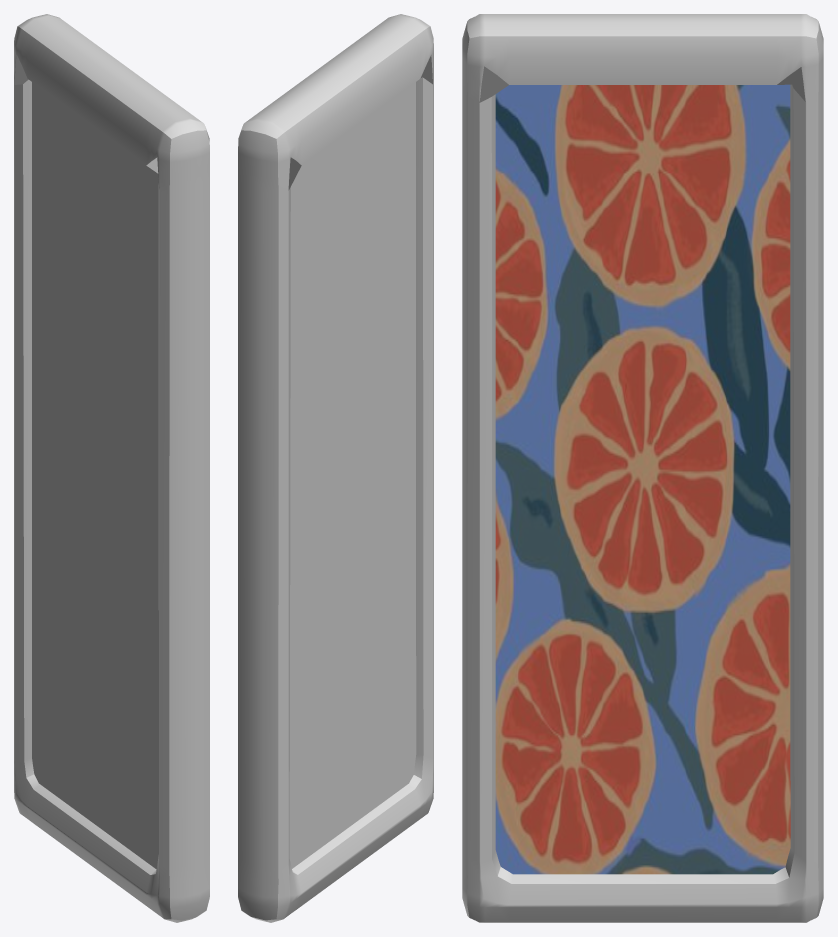
The model's file is PhotoV3.fbx.
The picture shows the model from 3 angles, left to right: view 1: azimuth 30°, elevation 25°; view 2: azimuth 150°, elevation 25°; view 3: azimuth 270°, elevation 25°; orthographic projection. The views are drawn at different scales.
Visible parts, largest first — view 1: pCube129; view 2: pCube129; view 3: pCube129.
Part boxes in pixels (x1,y1,x2,y2): pCube129: [14, 14, 209, 922]; pCube129: [238, 14, 433, 922]; pCube129: [462, 14, 823, 922].
Size of the model in its own units: 7.7 by 118 by 42.76.
